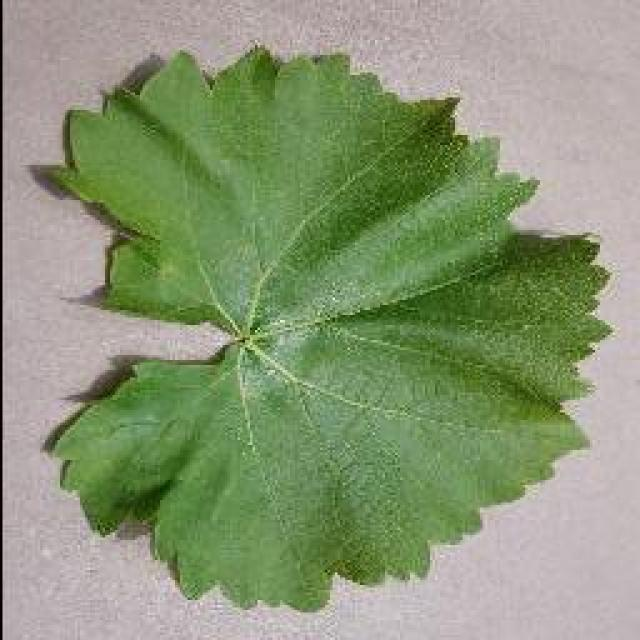Grape___healthy: (32, 37, 619, 621)
